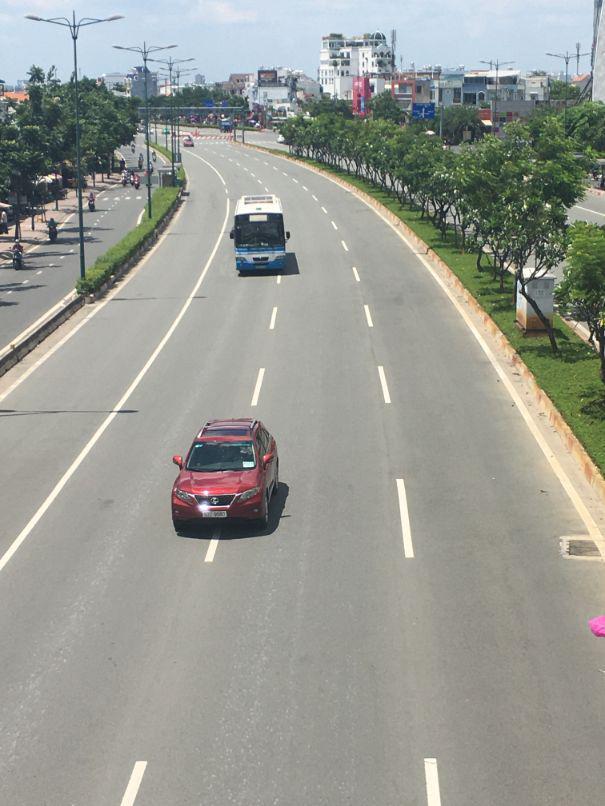bus: (233, 193, 291, 274)
car: (168, 416, 288, 533)
